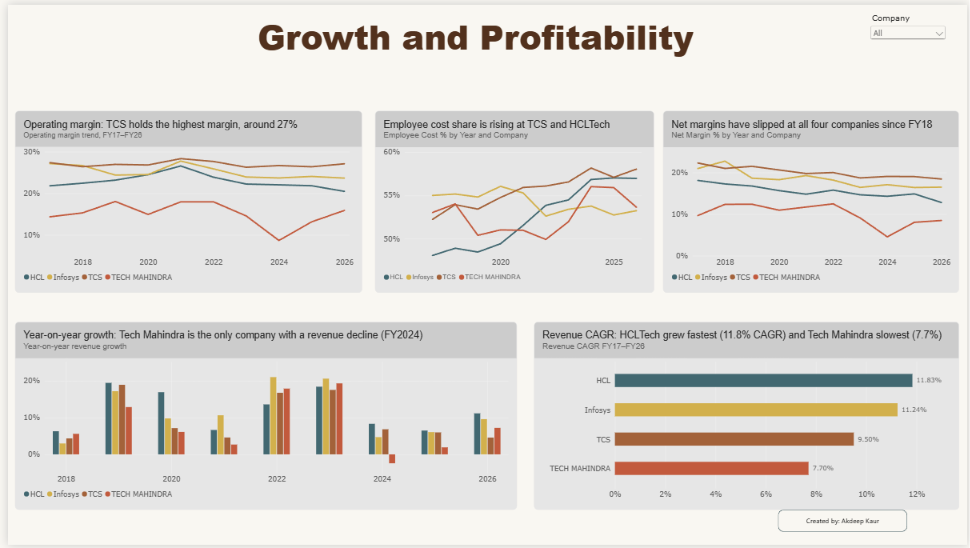

Layout of this report page (visuals, bound fields, positions):
{"tool":"powerbi","page":{"name":"Growth and Profitability","canvas":[1920,1080],"ordinal":1},"visuals":[{"type":"slicer","fields":{"Values":["Dim_Company.Company"]},"box":[1720,15,160.5,76.2],"z":0},{"type":"actionButton","box":[402,0,1066,126],"z":1000},{"type":"lineChart","title":"Operating margin: TCS holds the highest margin, around 27%","fields":{"Category":["Dim_Year.Year"],"Series":["Dim_Company.Company"],"Y":["Measures (2).Operating Margin %"]},"box":[14,212,694,364],"z":2000},{"type":"lineChart","title":"Net margins have slipped at all four companies since FY18","fields":{"Category":["Dim_Year.Year"],"Series":["Dim_Company.Company"],"Y":["Measures (2).Net Margin %"]},"box":[1310,212,592,364],"z":3000},{"type":"clusteredColumnChart","title":"Year-on-year growth: Tech Mahindra is the only company with a revenue decline (FY2024)","fields":{"Category":["Dim_Year.Year"],"Series":["Dim_Company.Company"],"Y":["Measures (2).Revenue YoY %"]},"box":[14,634,1004,376],"z":4000},{"type":"clusteredBarChart","title":"Revenue CAGR: HCLTech grew fastest (11.8% CAGR) and Tech Mahindra slowest (7.7%)","fields":{"Category":["Dim_Company.Company"],"Y":["Measures (2).Revenue CAGR % (Full Period)"]},"box":[1052,634,850,376],"z":5000},{"type":"lineChart","title":"Employee cost share is rising at TCS and HCLTech","fields":{"Category":["Dim_Year.Year"],"Series":["Dim_Company.Company"],"Y":["Measures (2).Employee Cost %"]},"box":[734,212,558,364],"z":6000},{"type":"shape","box":[1539,1009.8,258.5,43.9],"z":6001}]}

Visuals, with their boxes in screenshot pixels (x1, y1, x2, y2), scaled from the page's 1920x1080 canvas onto the 970x548 screenshot:
slicer - Dim_Company.Company: (x1=869, y1=8, x2=950, y2=46)
actionButton: (x1=203, y1=0, x2=742, y2=64)
"Operating margin: TCS holds the highest margin, around 27%" lineChart: (x1=7, y1=108, x2=358, y2=292)
"Net margins have slipped at all four companies since FY18" lineChart: (x1=662, y1=108, x2=961, y2=292)
"Year-on-year growth: Tech Mahindra is the only company with a revenue decline (FY2024)" clusteredColumnChart: (x1=7, y1=322, x2=514, y2=512)
"Revenue CAGR: HCLTech grew fastest (11.8% CAGR) and Tech Mahindra slowest (7.7%)" clusteredBarChart: (x1=531, y1=322, x2=961, y2=512)
"Employee cost share is rising at TCS and HCLTech" lineChart: (x1=371, y1=108, x2=653, y2=292)
shape: (x1=778, y1=512, x2=908, y2=535)
